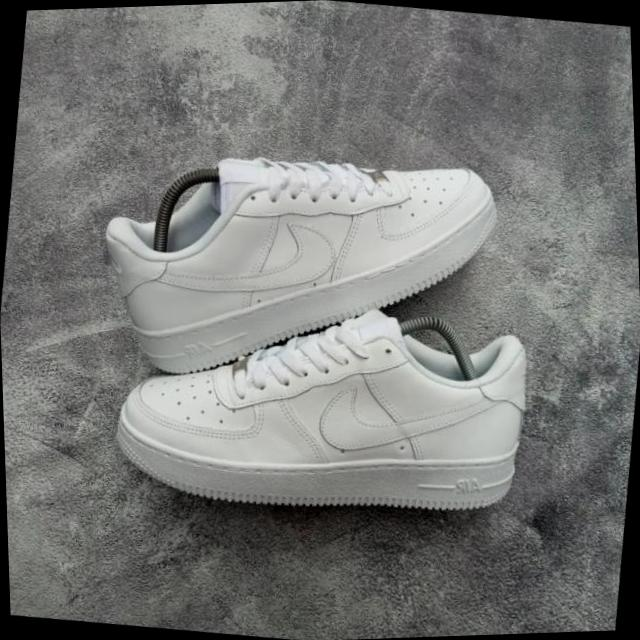nike_fake_airforce: (77, 123, 510, 416), (103, 274, 540, 548)
